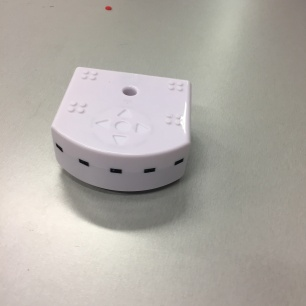thymio: (48, 61, 206, 197)
